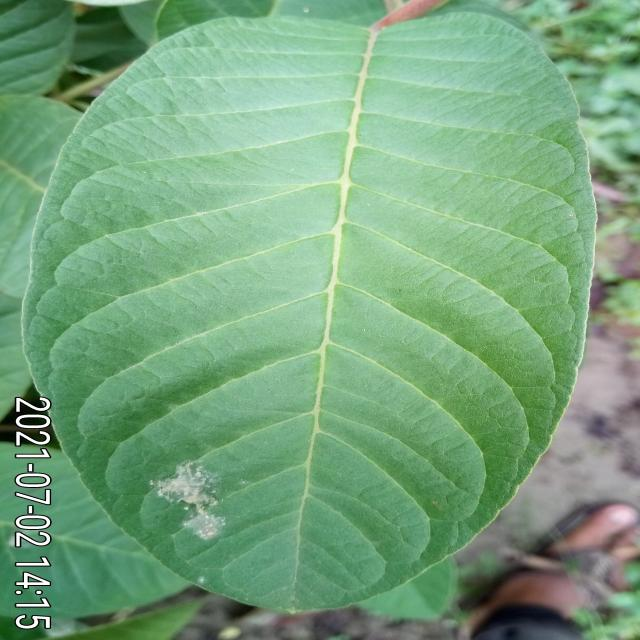Disease Free: (23, 14, 595, 610)
